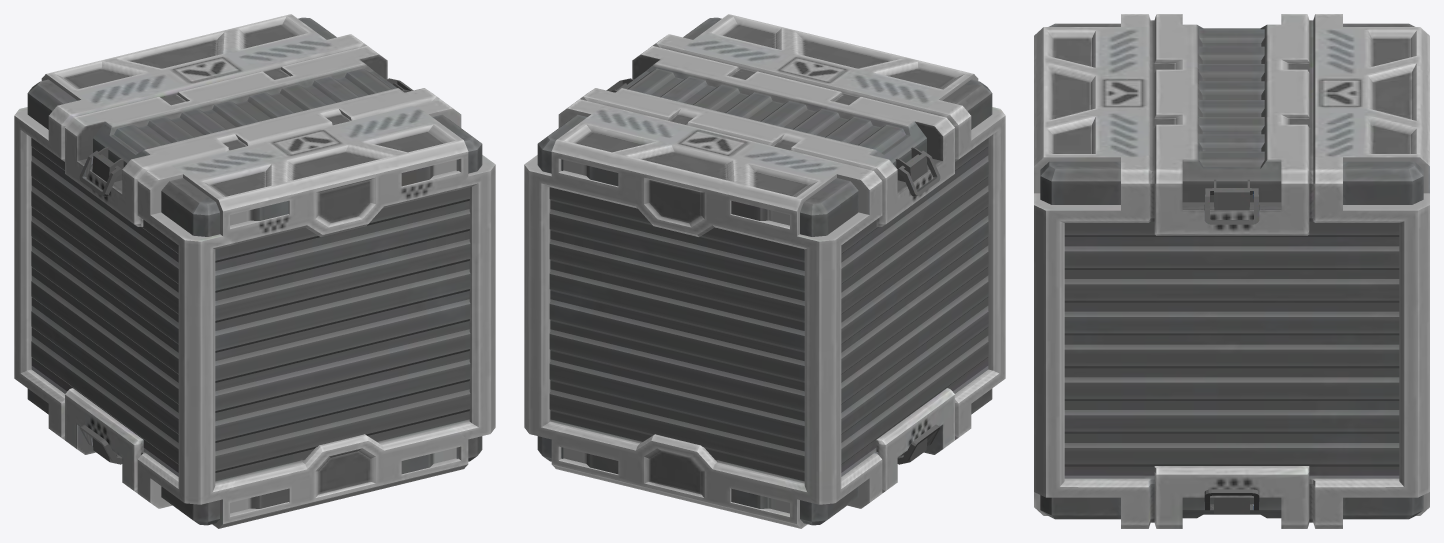
File: Prop_Crate.glb
3 views of the same model, side by side, from view 1: azimuth 30°, elevation 25°; view 2: azimuth 150°, elevation 25°; view 3: azimuth 270°, elevation 25° (orthographic). The views are drawn at different scales.
Parts seen in each view (by area): view 1: Prop_Crate; view 2: Prop_Crate; view 3: Prop_Crate.
Boxes of the visible parts, bbox=[...] form: Prop_Crate: bbox=[14, 14, 495, 528]; Prop_Crate: bbox=[524, 14, 1005, 528]; Prop_Crate: bbox=[1034, 14, 1429, 528].
Bounding box in the file's own units: 1.57 × 1.5 × 1.5.
1 material, 1 textured.
